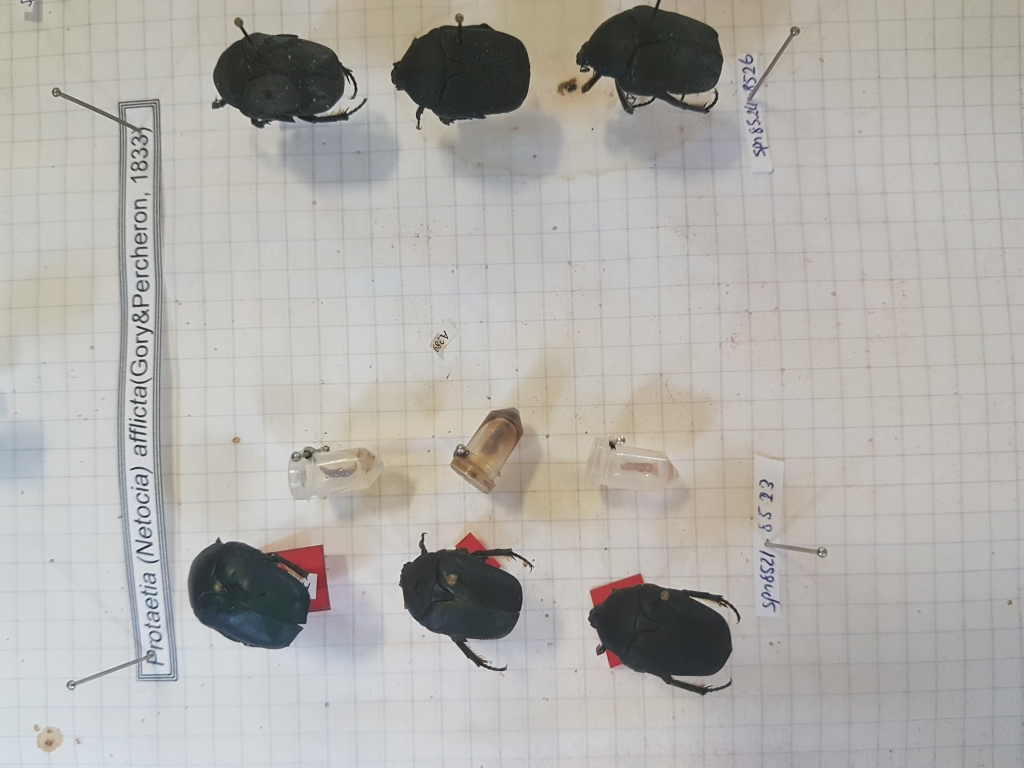Protaetia_afflicta: (567, 567, 747, 708), (387, 521, 535, 685), (173, 534, 322, 655)
